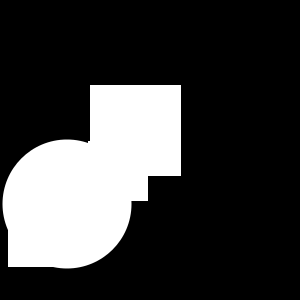circle: (90, 85, 181, 176), (88, 141, 148, 201), (8, 219, 56, 267), (63, 175, 82, 194)
rectangle: (2, 140, 132, 268)
